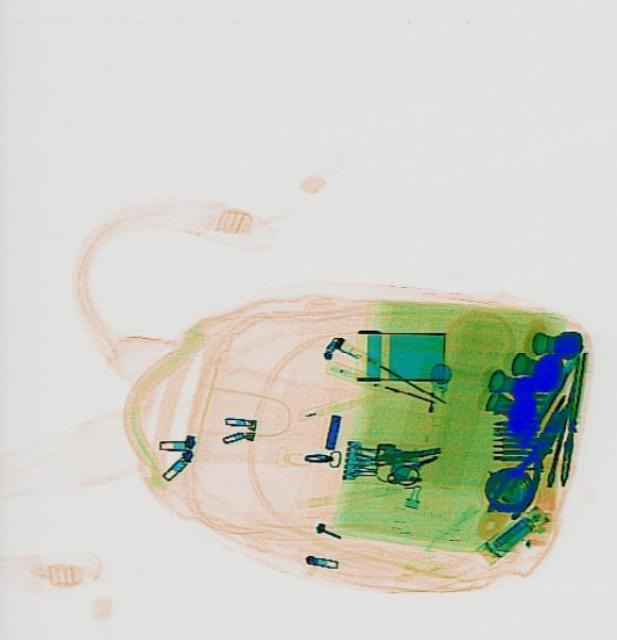Pliers: (481, 392, 583, 526)
